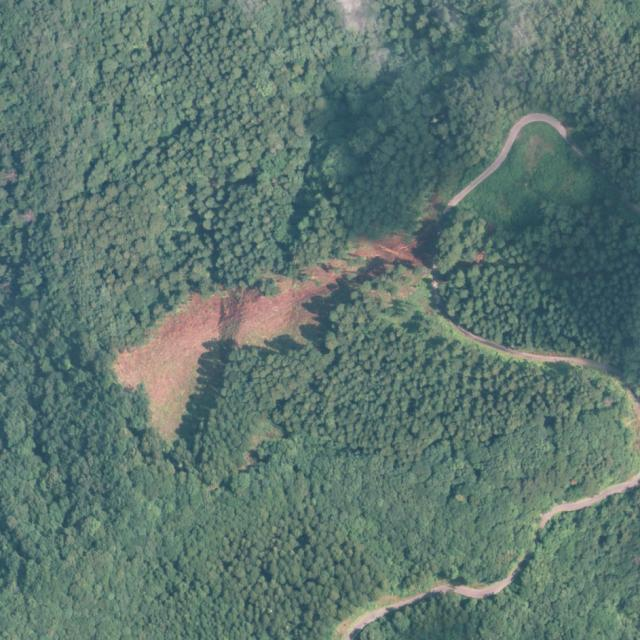landslide: (113, 237, 420, 442)
